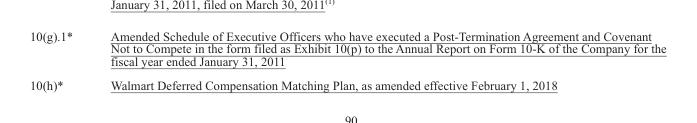table: (29, 28, 665, 91)
table column: (90, 28, 665, 91), (29, 28, 90, 91)
table row: (29, 28, 665, 72), (29, 72, 665, 91)
